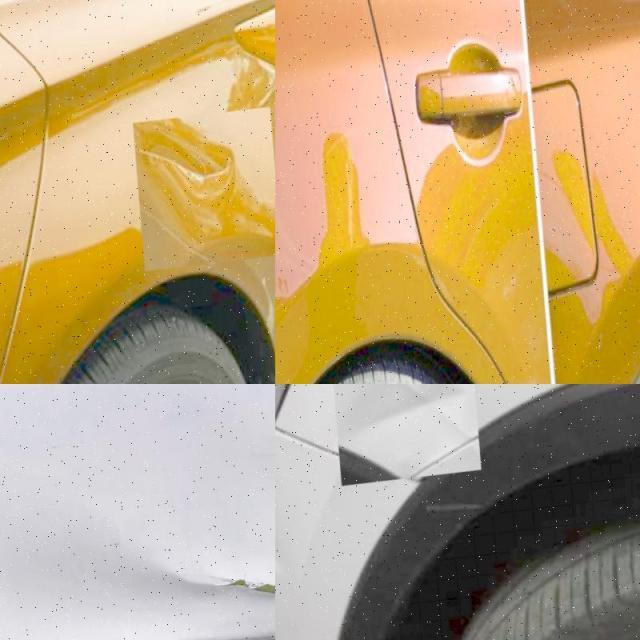car damage: (130, 110, 272, 257), (205, 572, 280, 601)
